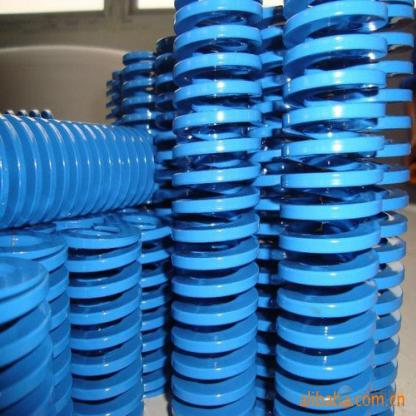FOD: (269, 0, 391, 415), (168, 0, 264, 415), (0, 115, 157, 234)
